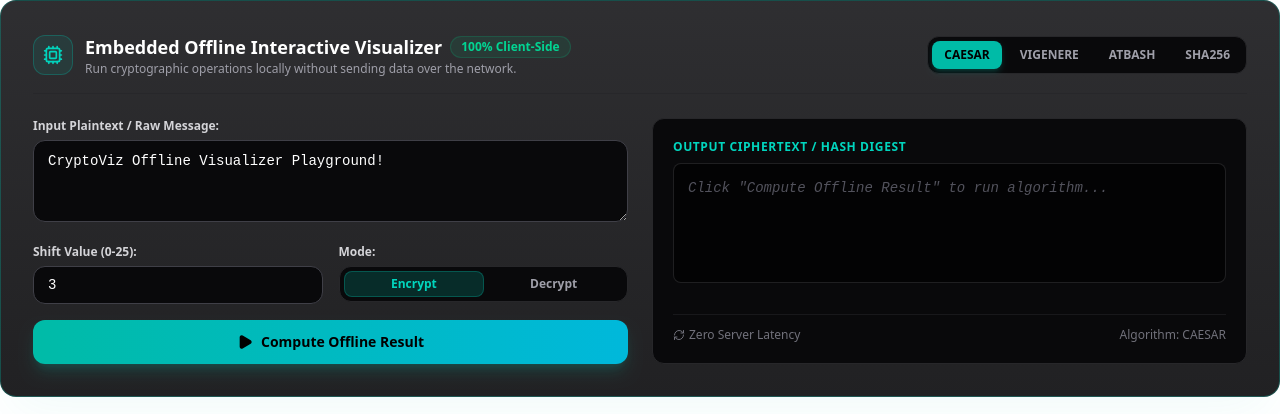
Test: Offline Learning Pack Page & Components › computes Caesar cipher offline in OfflineVisualizer component
The image size is (1280, 414).
Replace the text in the text box labelled "Input Plaintext / Raw Message:" with "ABC" at (330, 181), box [33,140,628,222]
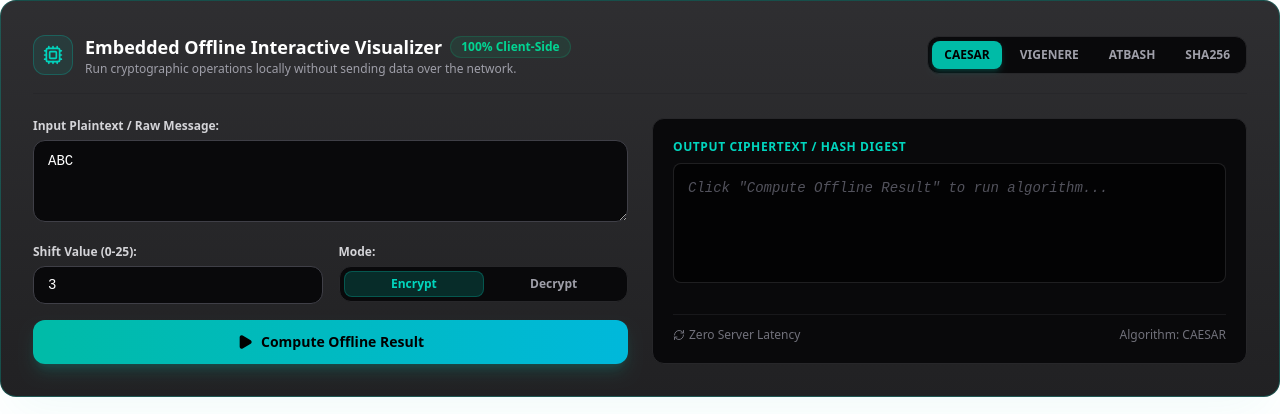
Click the button "Compute Offline Result" at (330, 342), box [33,320,628,364]
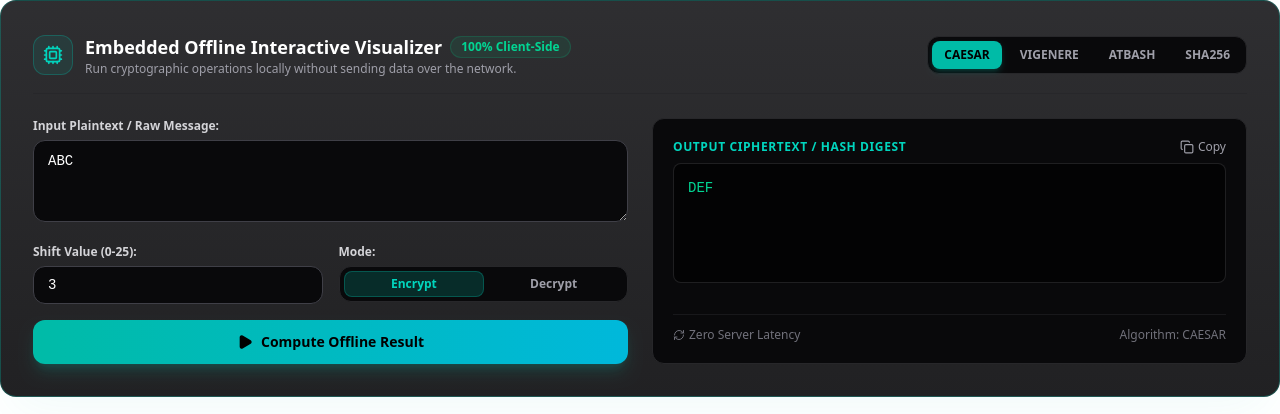
Expected: the text "DEF" is shown, [673,163,1226,283]
